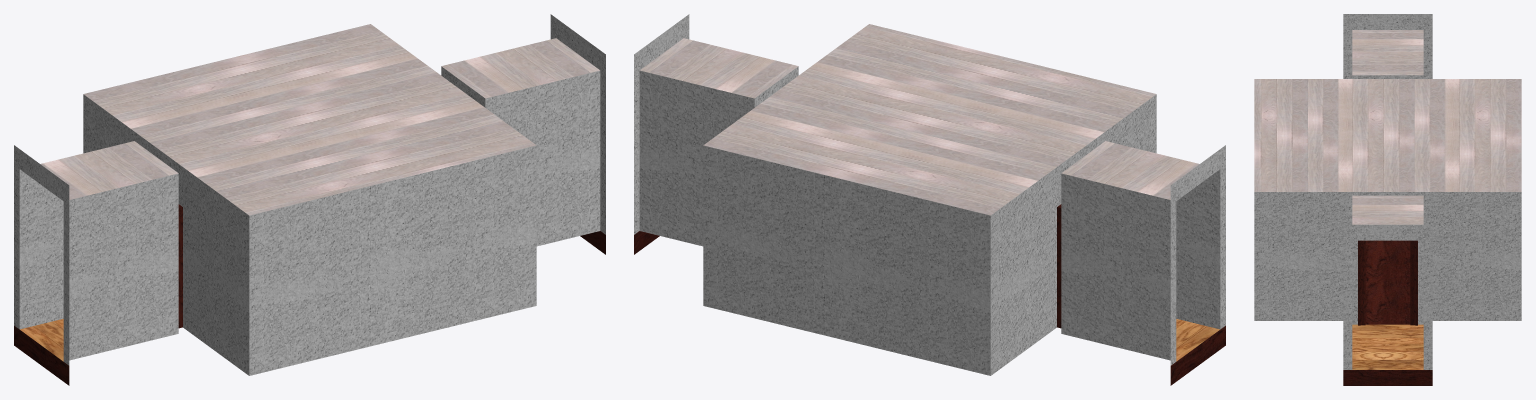
Rendered from townDungeon3cell.gltf.
3 views of the same model, side by side, from view 1: azimuth 30°, elevation 25°; view 2: azimuth 150°, elevation 25°; view 3: azimuth 270°, elevation 25° (orthographic). The views are drawn at different scales.
Visible parts, largest first — view 1: townDungeon3cell; view 2: townDungeon3cell; view 3: townDungeon3cell.
Boxes of the visible parts, x1,y1,x2,y2 form: townDungeon3cell: (14, 14, 605, 385); townDungeon3cell: (634, 14, 1225, 385); townDungeon3cell: (1254, 14, 1521, 385).
Size of the model in its own units: 14 by 5 by 7.5.
Materials: 4 (4 with a texture image).
